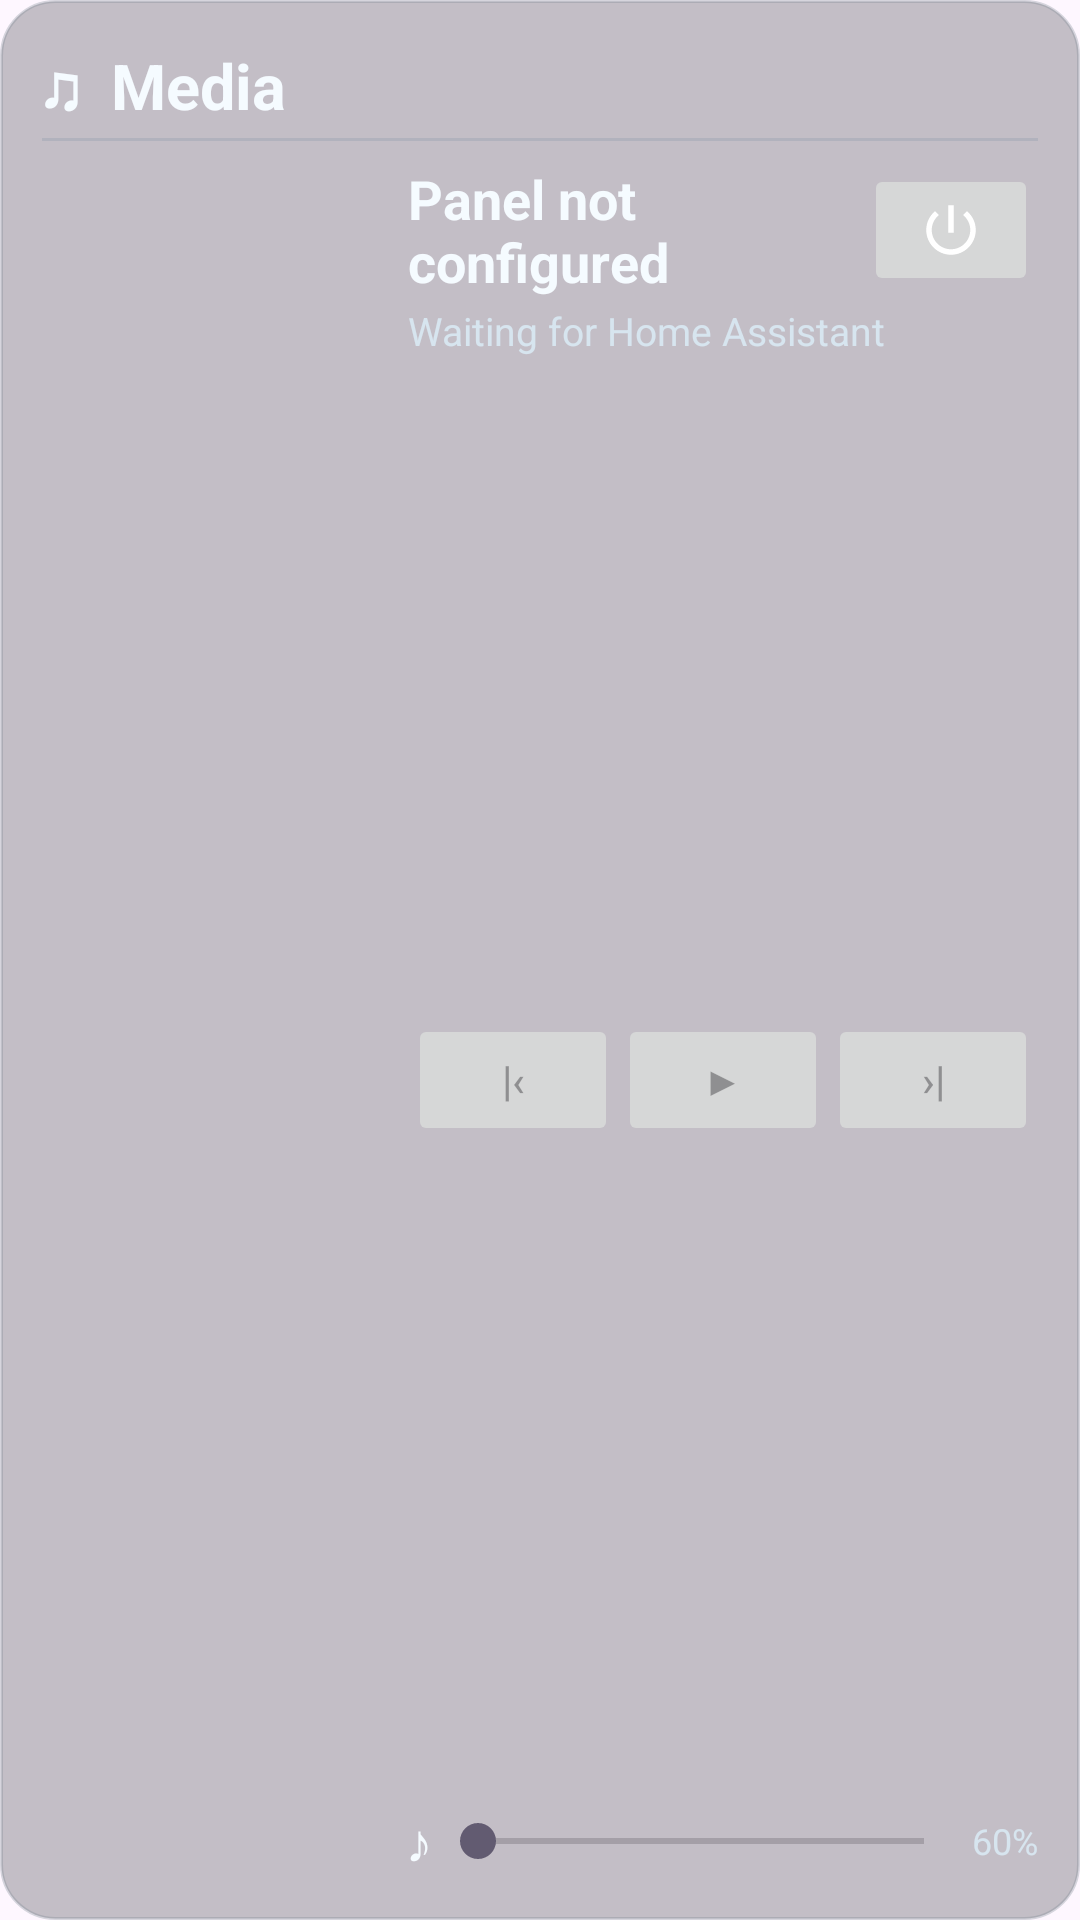

Icons on this 1080×1920 Android screen, each with its box as (x1, y1, x2, y2):
Power: (876, 182, 1026, 278)
